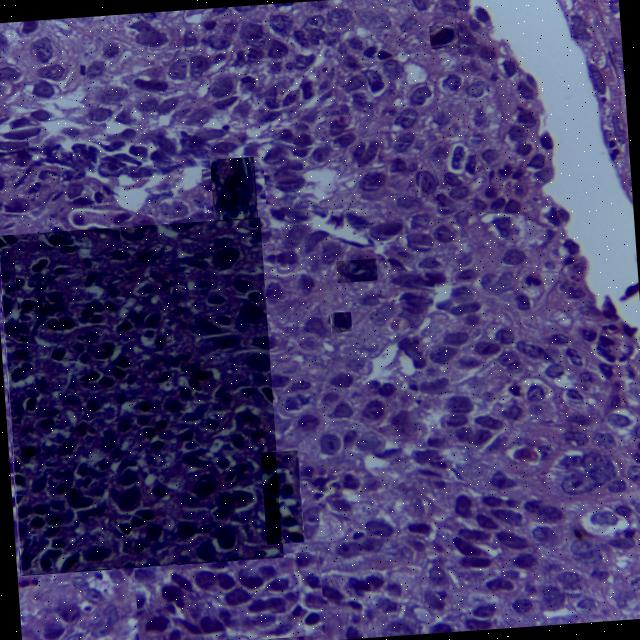Multiple Nucleol: (337, 258, 377, 280), (414, 169, 436, 196), (330, 312, 351, 331)
Nuclear Hyperchromatism: (0, 234, 275, 573), (139, 556, 324, 640), (261, 451, 303, 541), (212, 156, 256, 218), (430, 24, 459, 48)
